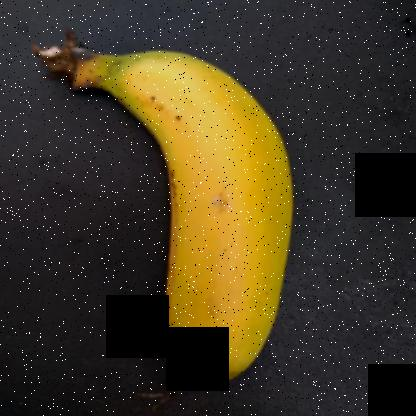freshripe: (105, 41, 334, 413)
